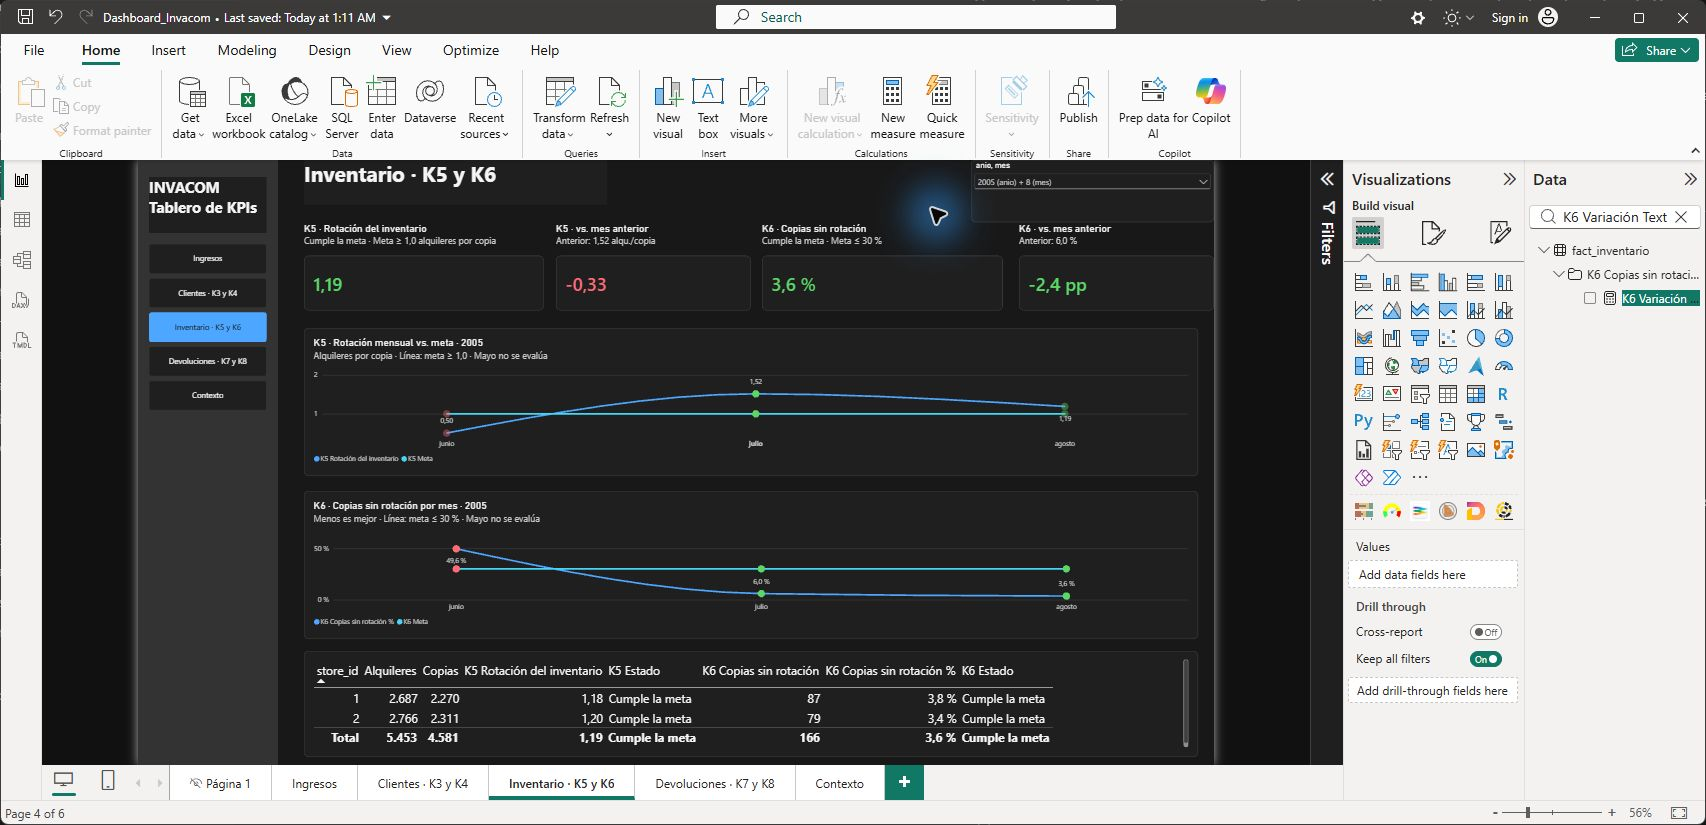

The dashboard page shown, as its layout file describes it:
{"tool":"powerbi","page":{"name":"Inventario · K5 y K6","canvas":[1920,1080],"ordinal":3},"visuals":[{"type":"shape","box":[0,0,250,1080],"z":0},{"type":"pageNavigator","box":[20,150,210,300],"z":1},{"type":"textbox","box":[20,30,210,100],"z":2},{"type":"tableEx","fields":{"Values":["dim_tienda.store_id","fact_alquiler.Alquileres","fact_inventario.Copias","fact_alquiler.K5 Rotación del inventario","fact_alquiler.K5 Estado","fact_inventario.K6 Copias sin rotación","fact_inventario.K6 Copias sin rotación %","fact_inventario.K6 Estado"]},"box":[296.3,855.1,1595.9,189.2],"z":3},{"type":"slicer","fields":{"Values":["dim_fecha.anio","dim_fecha.mes"]},"box":[1487,0,433.8,110.7],"z":4},{"type":"cardVisual","title":"K5 · Rotación del inventario","fields":{"Data":["fact_alquiler.K5 Texto"]},"box":[296.3,110.7,785.5,230.3],"z":5},{"type":"cardVisual","title":"K6 · Copias sin rotación","fields":{"Data":["fact_inventario.K6 Texto"]},"box":[1113.9,110.7,778.3,230.3],"z":6},{"type":"textbox","box":[296.3,0,540.9,80.3],"z":7},{"type":"lineClusteredColumnComboChart","title":"K5 · Rotación mensual vs. meta · 2005","fields":{"Category":["dim_fecha.nombre_mes"],"Y":["fact_alquiler.K5 Rotación del inventario"],"Y2":["fact_alquiler.K5 Meta"]},"box":[296.3,376.7,785.5,453.4],"z":8},{"type":"lineClusteredColumnComboChart","title":"K6 · Copias sin rotación por mes · 2005","fields":{"Category":["dim_fecha.nombre_mes"],"Y":["fact_inventario.K6 Copias sin rotación %"],"Y2":["fact_inventario.K6 Meta"]},"box":[1113.9,376.7,785.5,453.4],"z":9}]}

Visuals, with their boxes on the page's 1920x1080 design canvas (x1, y1, x2, y2). These are canvas units, not pixel positions in the 1706x825 screenshot, which may show the page scaled, cropped or inside an application window:
shape: select_region(0, 0, 250, 1080)
pageNavigator: select_region(20, 150, 230, 450)
textbox: select_region(20, 30, 230, 130)
tableEx - dim_tienda.store_id x fact_alquiler.Alquileres: select_region(296, 855, 1892, 1044)
slicer - dim_fecha.anio x dim_fecha.mes: select_region(1487, 0, 1921, 111)
"K5 · Rotación del inventario" cardVisual: select_region(296, 111, 1082, 341)
"K6 · Copias sin rotación" cardVisual: select_region(1114, 111, 1892, 341)
textbox: select_region(296, 0, 837, 80)
"K5 · Rotación mensual vs. meta · 2005" lineClusteredColumnComboChart: select_region(296, 377, 1082, 830)
"K6 · Copias sin rotación por mes · 2005" lineClusteredColumnComboChart: select_region(1114, 377, 1899, 830)
